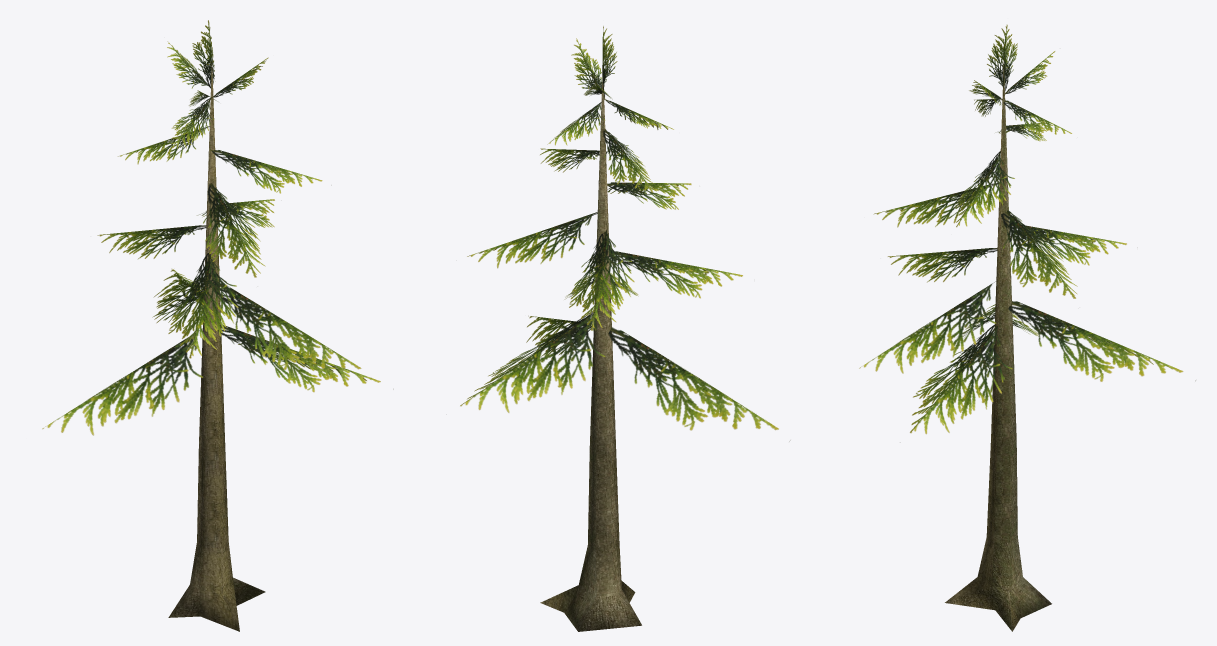
Rendered from dead_pine.glb.
3 renders of one model, left to right at view 1: azimuth 30°, elevation 25°; view 2: azimuth 150°, elevation 25°; view 3: azimuth 270°, elevation 25°, orthographic.
Parts seen in each view (by area): view 1: Tree_5; view 2: Tree_5; view 3: Tree_5.
Part boxes in pixels (left/top/right/bottom): Tree_5: left=42, top=20, right=393, bottom=631; Tree_5: left=460, top=26, right=790, bottom=631; Tree_5: left=859, top=24, right=1195, bottom=631.
Bounding box in the file's own units: 4.46 × 7.78 × 4.44.
2 materials, 2 textured.
